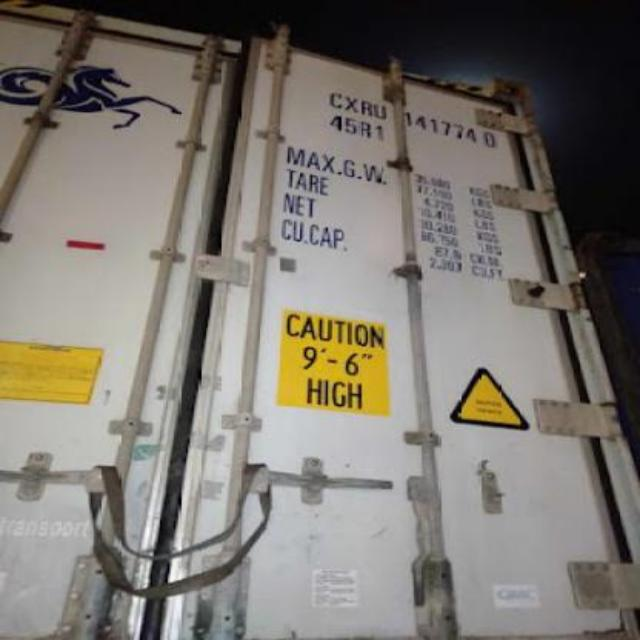0: (482, 130, 500, 148)
1: (404, 109, 414, 127), (430, 117, 440, 135)
4: (464, 126, 480, 144), (414, 112, 428, 132)
7: (438, 120, 454, 138), (452, 120, 466, 140)
C: (324, 90, 344, 112)
R: (360, 100, 372, 118)
U: (374, 102, 388, 122)
X: (346, 96, 359, 114)
